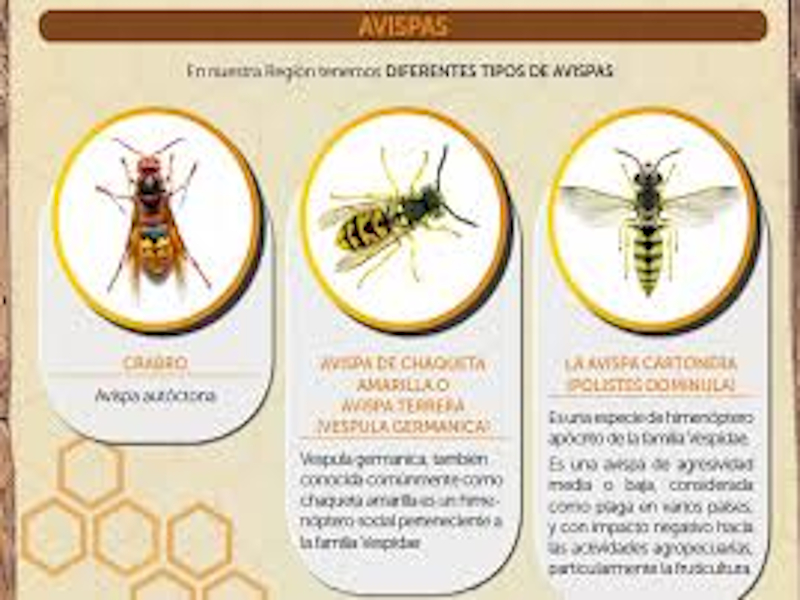chax: (568, 145, 731, 302), (322, 145, 481, 288)
